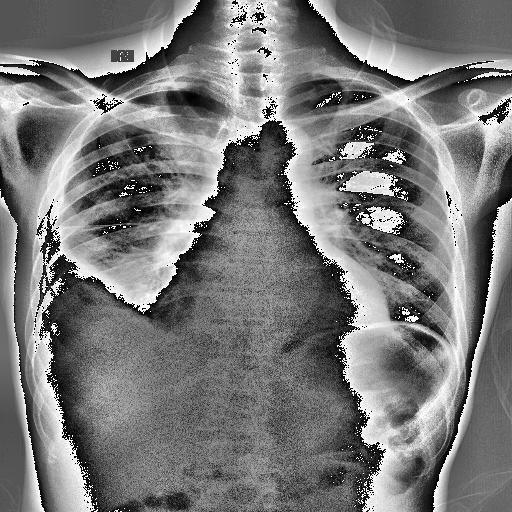10- Pleural effusion: (32, 208, 202, 336), (28, 218, 176, 352), (28, 211, 154, 335)
11- Pleural thickening: (126, 72, 203, 98), (153, 76, 232, 98)
3- Cardiomegaly: (152, 260, 392, 326)
7- Lung Opacity: (60, 234, 148, 312), (112, 248, 170, 314)
